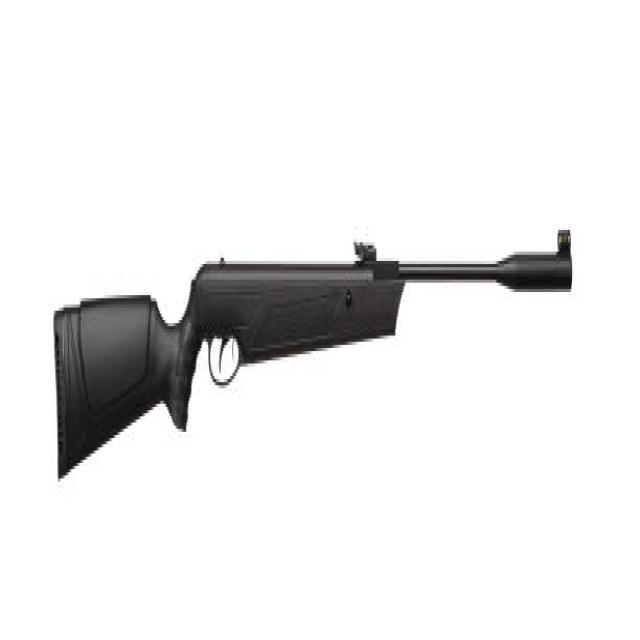rifle: (49, 185, 577, 500)
